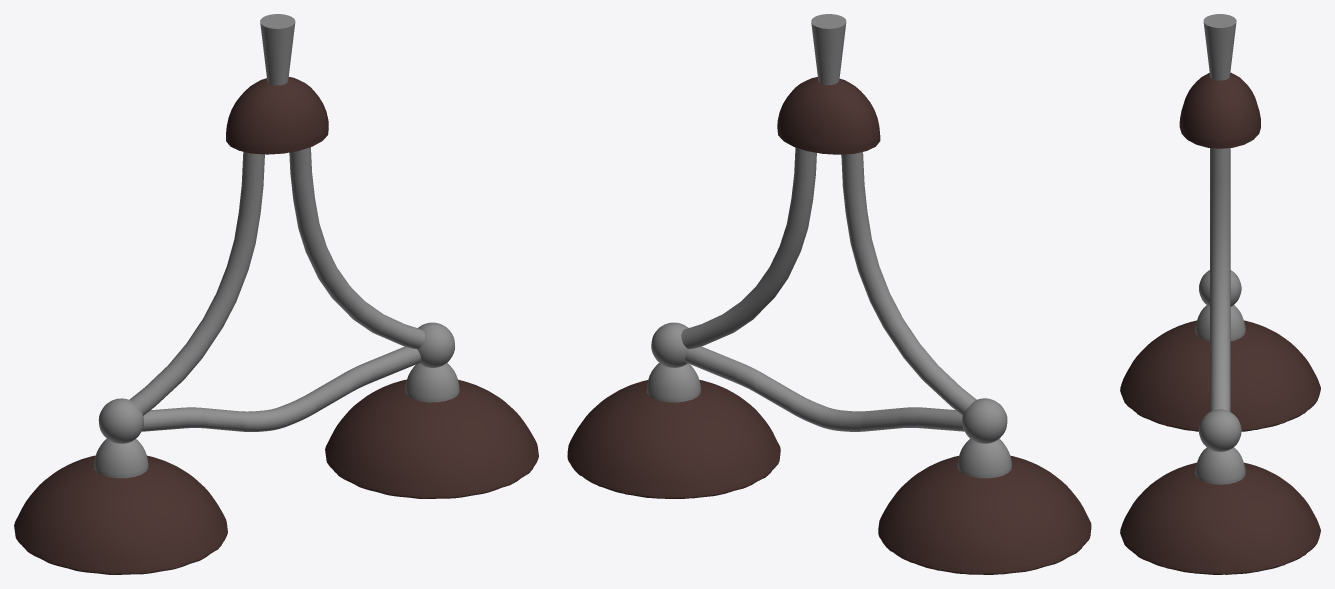
File: Lustre4_2.fbx
3 views of the same model, side by side, from view 1: azimuth 30°, elevation 25°; view 2: azimuth 150°, elevation 25°; view 3: azimuth 270°, elevation 25° (orthographic). The views are drawn at different scales.
Parts seen in each view (by area): view 1: pSphere158, pSphere159, pCylinder1322, pSphere154, pCylinder1325, pCylinder1323, pCylinder1324, pSphere156, pSphere157, pSphere153, pSphere160; view 2: pSphere159, pSphere158, pCylinder1322, pSphere154, pCylinder1325, pCylinder1323, pCylinder1324, pSphere156, pSphere157, pSphere153, pSphere160; view 3: pSphere158, pSphere159, pCylinder1323, pSphere154, pCylinder1324, pSphere157, pSphere160, pSphere156, pSphere153.
Part boxes in pixels (x1,y1,x2,y2): pSphere158: (325,379,538,498); pSphere159: (14,455,227,574); pCylinder1322: (129,151,264,415); pSphere154: (226,77,328,154); pCylinder1325: (142,346,421,431); pCylinder1323: (289,147,425,348); pCylinder1324: (260,14,295,85); pSphere156: (94,439,148,478); pSphere157: (405,363,459,402); pSphere153: (98,398,143,443); pSphere160: (417,322,454,367); pSphere159: (878,455,1091,574); pSphere158: (567,380,780,498); pCylinder1322: (841,152,976,415); pSphere154: (777,77,880,154); pCylinder1325: (685,346,964,431); pCylinder1323: (681,147,816,348); pCylinder1324: (811,14,846,85); pSphere156: (957,439,1011,478); pSphere157: (646,363,700,402); pSphere153: (962,398,1007,443); pSphere160: (651,322,688,367); pSphere158: (1120,462,1320,574); pSphere159: (1120,320,1320,431); pCylinder1323: (1210,148,1230,411); pSphere154: (1179,72,1260,148); pCylinder1324: (1203,14,1236,80); pSphere157: (1195,447,1245,484); pSphere160: (1199,409,1241,451); pSphere156: (1195,305,1245,341); pSphere153: (1199,270,1241,306).
Bounding box in the file's own units: 44.79 × 41.96 × 16.74.
